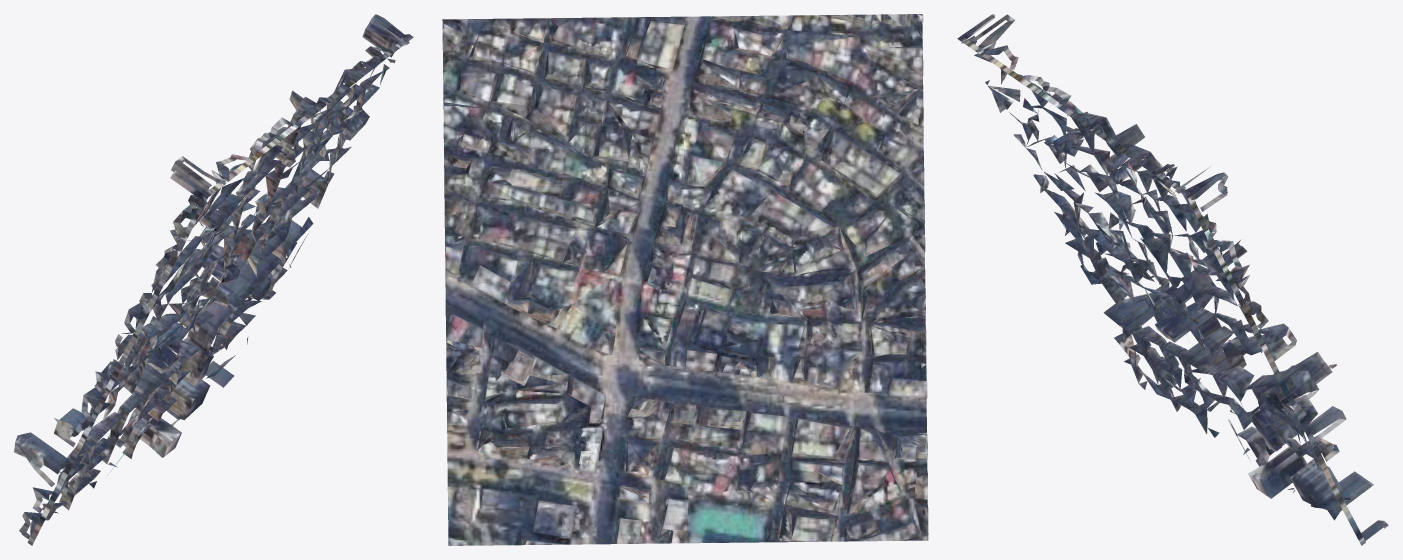
3 renders of one model, left to right at view 1: azimuth 30°, elevation 25°; view 2: azimuth 150°, elevation 25°; view 3: azimuth 270°, elevation 25°, orthographic. The views are drawn at different scales.
Bounding box in the file's own units: 618 × 586 × 546.
1 material, 1 textured.
